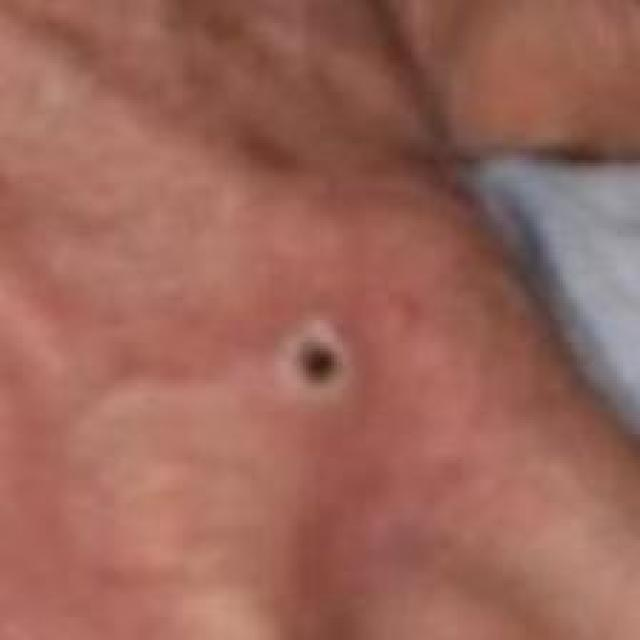monkeypox: (89, 172, 490, 570)
